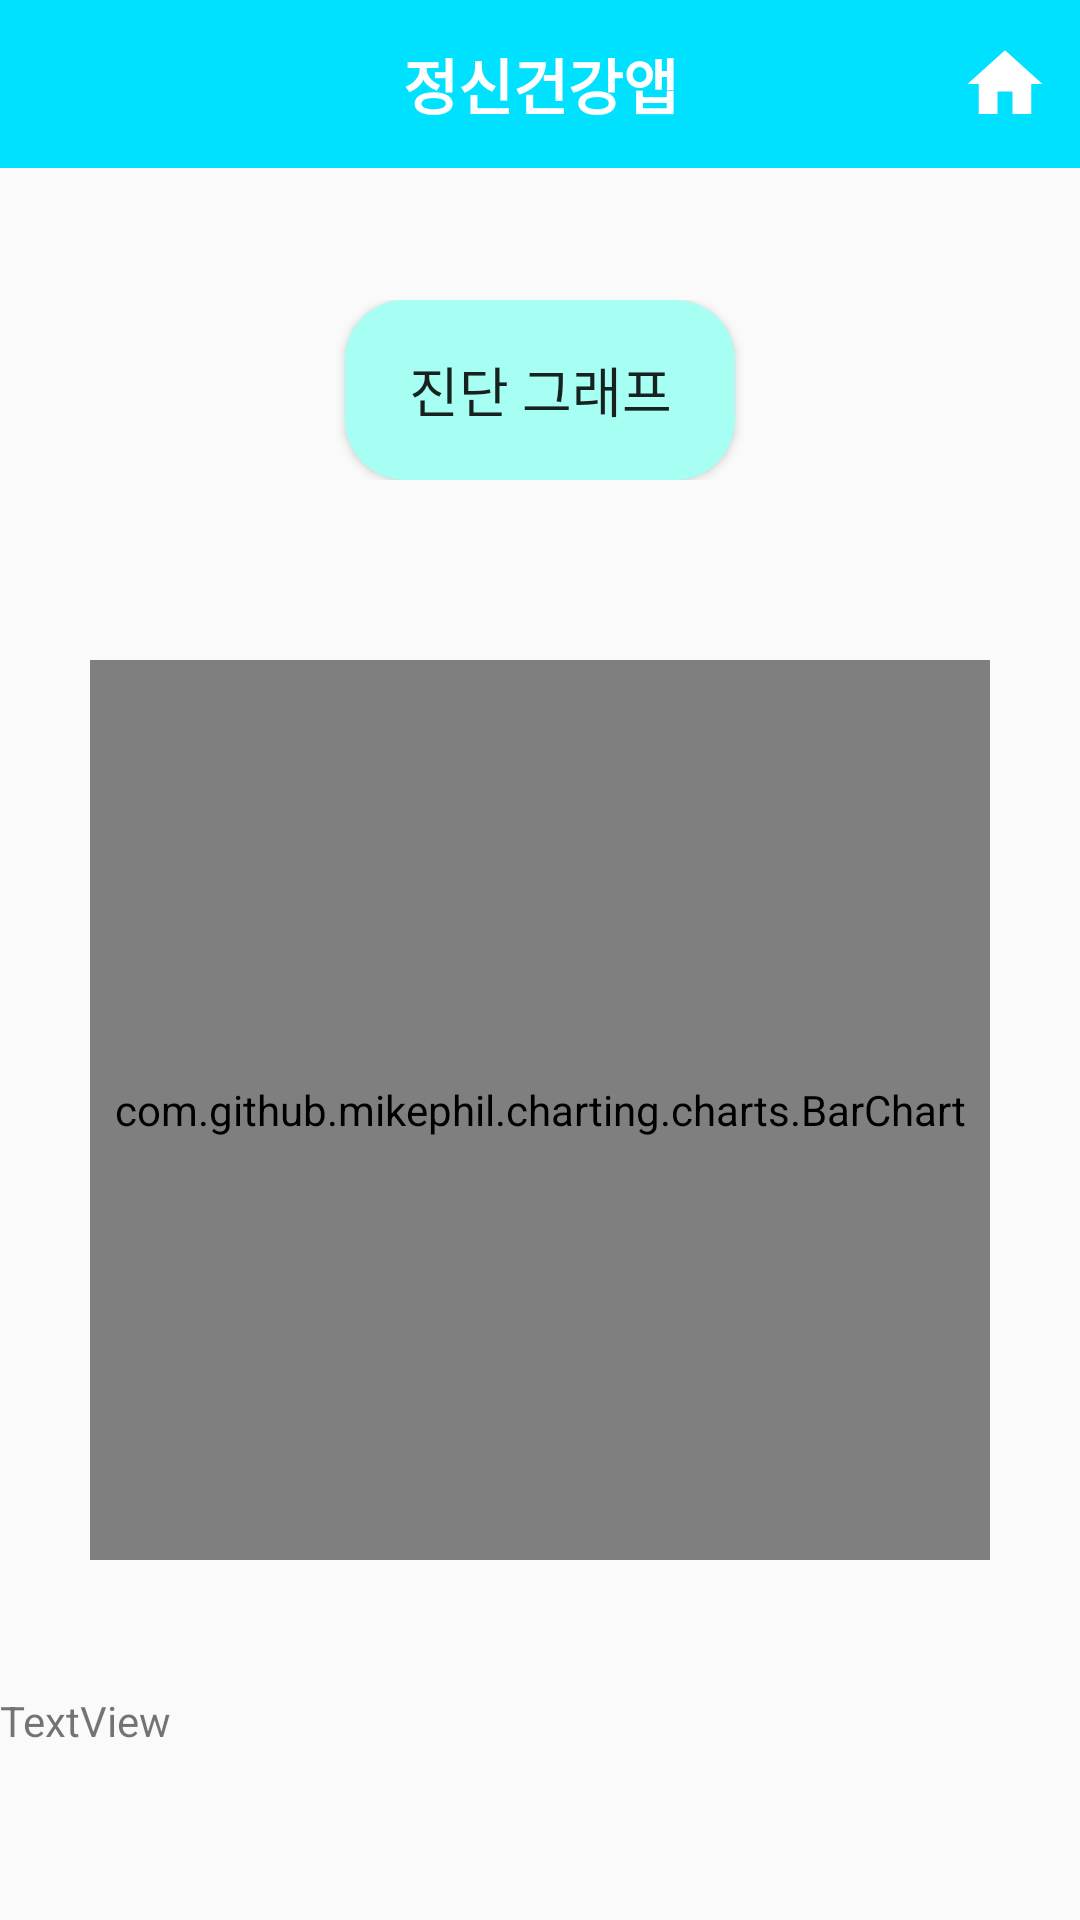

Icon bounding boxes for this 1080 × 1920 phone screenshot, format detection(x1, y1, x2, y2):
home: detection(968, 50, 1042, 114)
